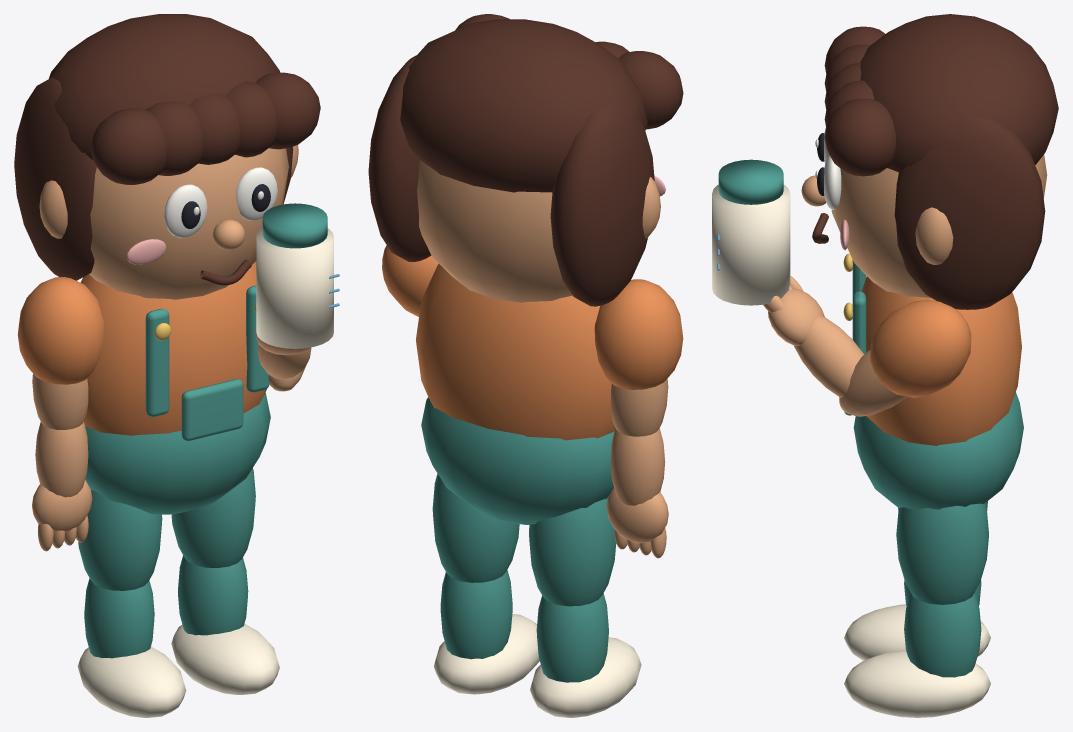
Rendered from ava-need-milk.glb.
3 views of the same model, side by side, from view 1: azimuth 30°, elevation 25°; view 2: azimuth 150°, elevation 25°; view 3: azimuth 270°, elevation 25° (orthographic). The views are drawn at different scales.
Parts seen in each view (by area): view 1: hair cap, soft shirt, clay head, overalls, bob hair, milk bottle, shirt sleeve, trouser leg, little shoe.001, little shoe, trouser leg.001, fringe (+20 smaller); view 2: hair cap, soft shirt, bob hair, overalls, clay head, shirt sleeve, trouser leg, bob hair.001, trouser leg.001, lower leg, lower leg.001, little shoe (+7 smaller); view 3: bob hair.001, hair cap, soft shirt, overalls, milk bottle, trouser leg.001, shirt sleeve.001, clay head, little shoe.001, lower leg.001, fringe.004, forearm.001 (+11 smaller).
Part boxes in pixels (<box>): hair cap: <box>49,14,279,160</box>; soft shirt: <box>80,262,266,435</box>; clay head: <box>89,148,288,299</box>; overalls: <box>85,393,270,514</box>; bob hair: <box>14,77,96,280</box>; milk bottle: <box>256,228,333,348</box>; shirt sleeve: <box>17,277,103,384</box>; trouser leg: <box>78,490,162,590</box>; little shoe.001: <box>171,624,279,694</box>; little shoe: <box>77,647,186,717</box>; trouser leg.001: <box>171,468,255,567</box>; fringe: <box>91,108,166,184</box>; hair cap: <box>400,19,647,192</box>; soft shirt: <box>416,264,615,440</box>; bob hair: <box>550,103,654,306</box>; overalls: <box>421,397,613,524</box>; clay head: <box>417,160,572,302</box>; shirt sleeve: <box>594,279,683,389</box>; trouser leg: <box>529,495,616,606</box>; bob hair.001: <box>368,55,431,261</box>; trouser leg.001: <box>432,473,519,582</box>; lower leg: <box>536,593,608,682</box>; lower leg.001: <box>440,570,512,659</box>; little shoe: <box>530,637,641,717</box>; bob hair.001: <box>894,116,1045,309</box>; hair cap: <box>860,14,1058,172</box>; soft shirt: <box>861,276,1021,445</box>; overalls: <box>853,392,1023,509</box>; milk bottle: <box>712,184,790,305</box>; trouser leg.001: <box>896,503,988,604</box>; shirt sleeve.001: <box>870,299,971,397</box>; clay head: <box>829,154,1047,297</box>; little shoe.001: <box>844,650,990,717</box>; lower leg.001: <box>904,593,981,677</box>; fringe.004: <box>824,98,895,176</box>; forearm.001: <box>794,316,864,397</box>.
Size of the model in its own units: 0.8534 by 1.87 by 0.8958.
